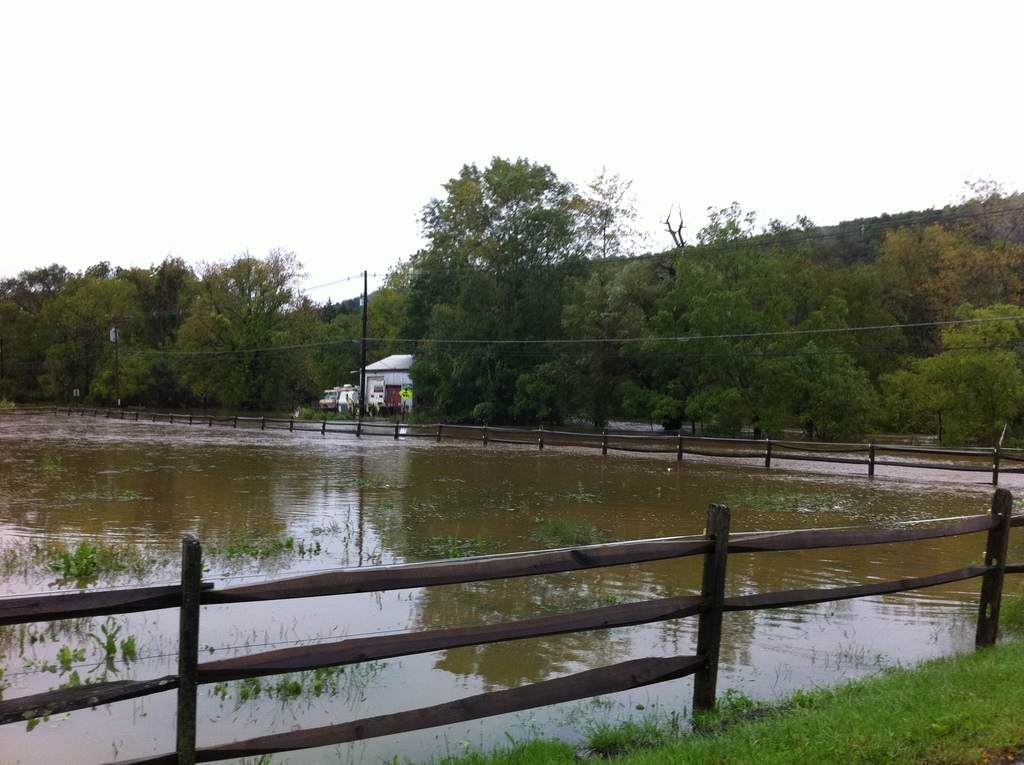Tree: (0, 154, 1023, 451)
